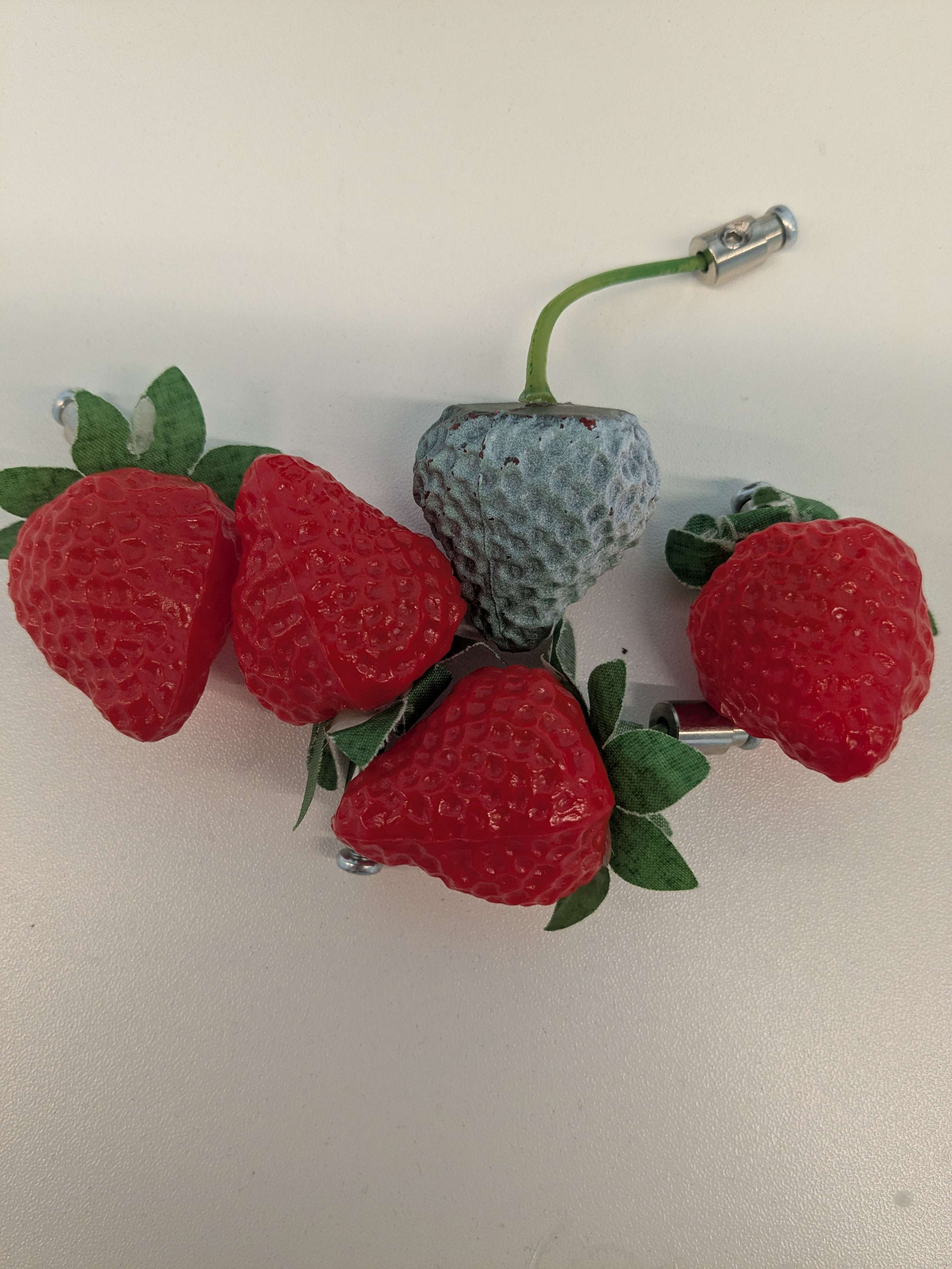Strawberry: (668, 489, 952, 795), (323, 651, 626, 911), (9, 467, 233, 760), (206, 452, 444, 720)
